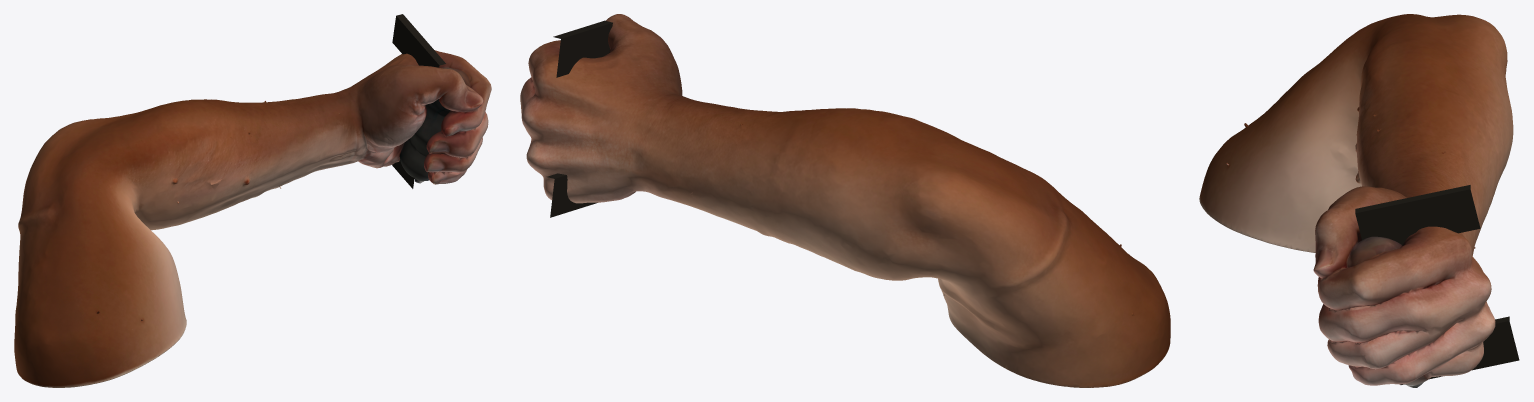
Rendered from shield_arm.glb.
3 views of the same model, side by side, from view 1: azimuth 30°, elevation 25°; view 2: azimuth 150°, elevation 25°; view 3: azimuth 270°, elevation 25° (orthographic). The views are drawn at different scales.
Visible parts, largest first — view 1: shield_arm; view 2: shield_arm; view 3: shield_arm.
Part boxes in pixels (box(x1,y1,x2,y2)): shield_arm: box(14, 14, 491, 387); shield_arm: box(520, 14, 1170, 387); shield_arm: box(1199, 14, 1519, 387).
Size of the model in its own units: 0.5709 by 0.242 by 0.2435.
1 material, 1 textured.
